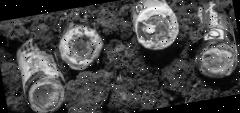electronic: (7, 32, 74, 113)
